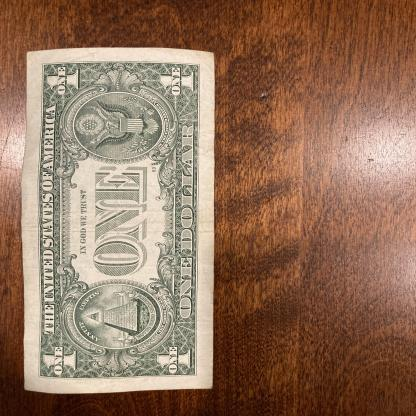one-back: (23, 47, 216, 394)
